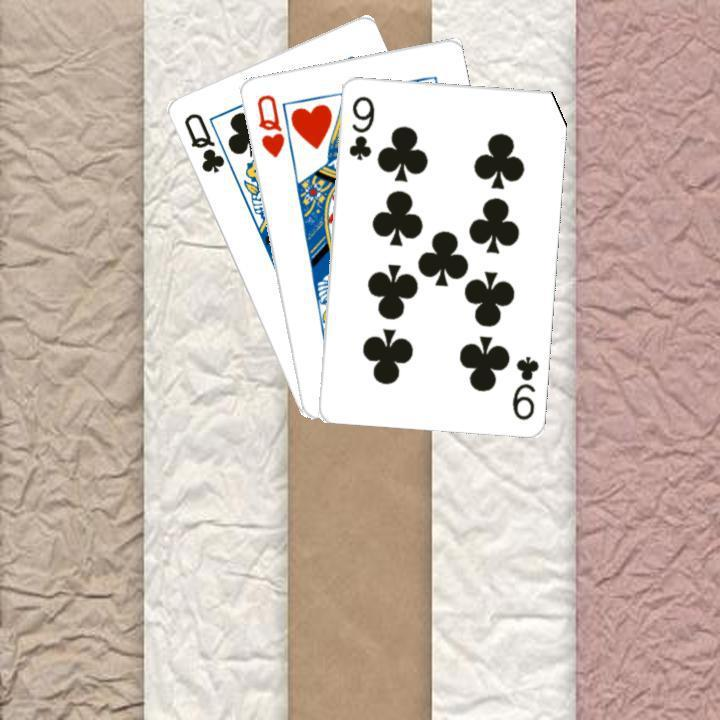9: (507, 351, 541, 422), (344, 91, 376, 162)
Q: (179, 108, 226, 175), (252, 89, 286, 159)
